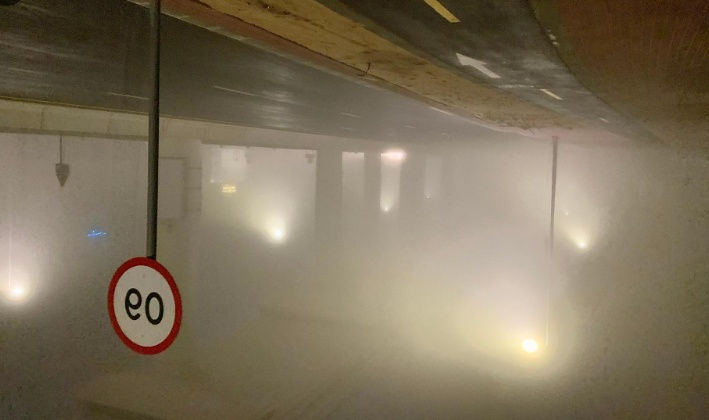Speed limit: (89, 248, 190, 363)
